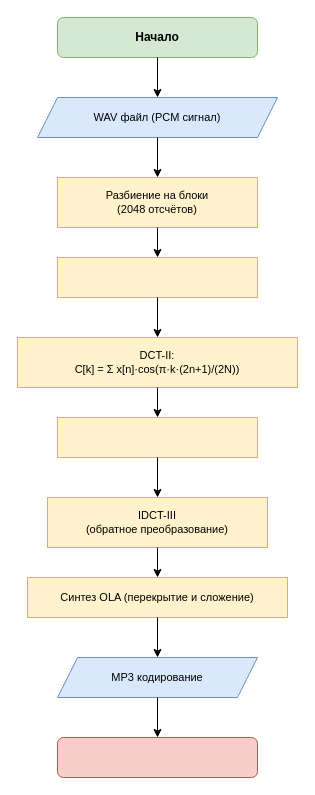
The diagram is 315 pixels wide and 795 high, and some of its shapes have lost their labels. The shapes that lost their labels are listed below. From the top down, each one's centre as x and y in pixels, then its label:
[157,277]: Применение окна Ханна
[157,437]: Отбор коэффициентов
[157,757]: Конец
